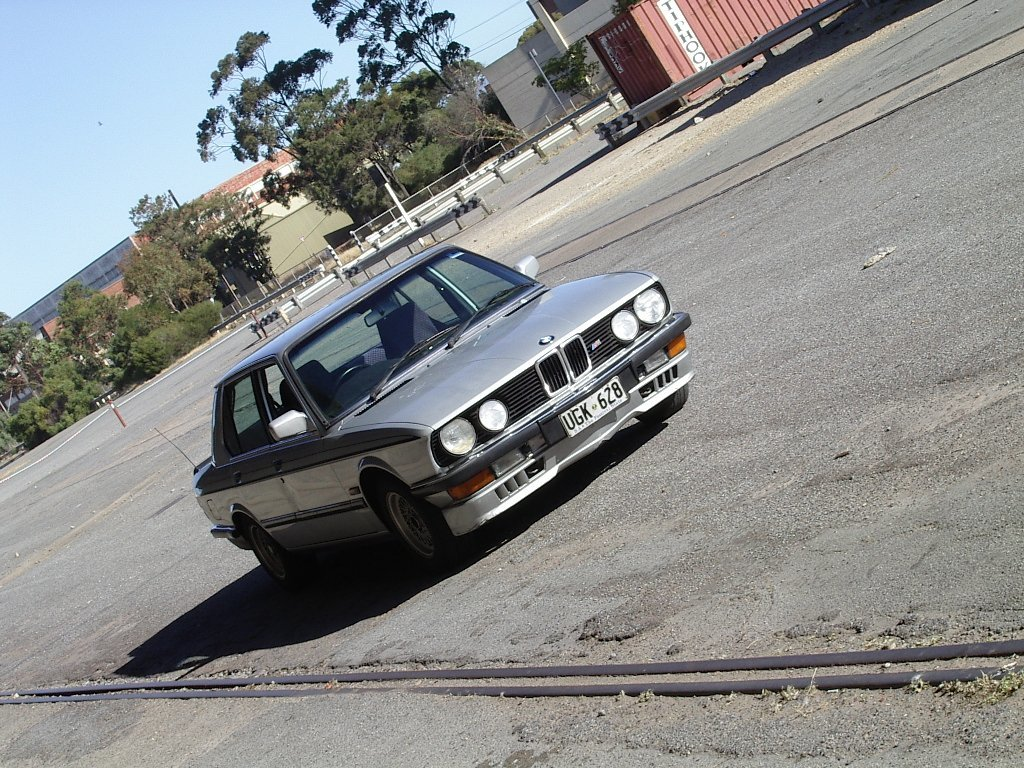Car: (184, 228, 679, 603)
